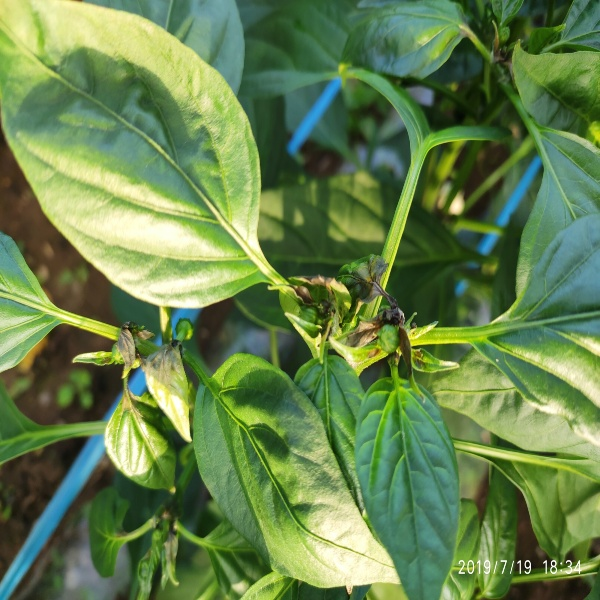blight: (284, 254, 428, 384), (115, 318, 189, 394)
